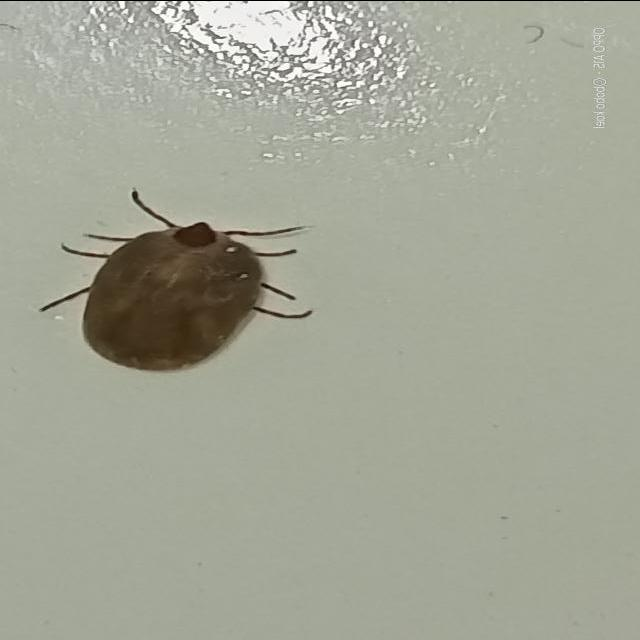Rhipicephalus Sanguineus-F-Fed: (38, 187, 315, 371)
